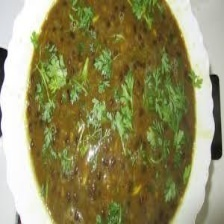sabzi: (22, 0, 201, 224)
